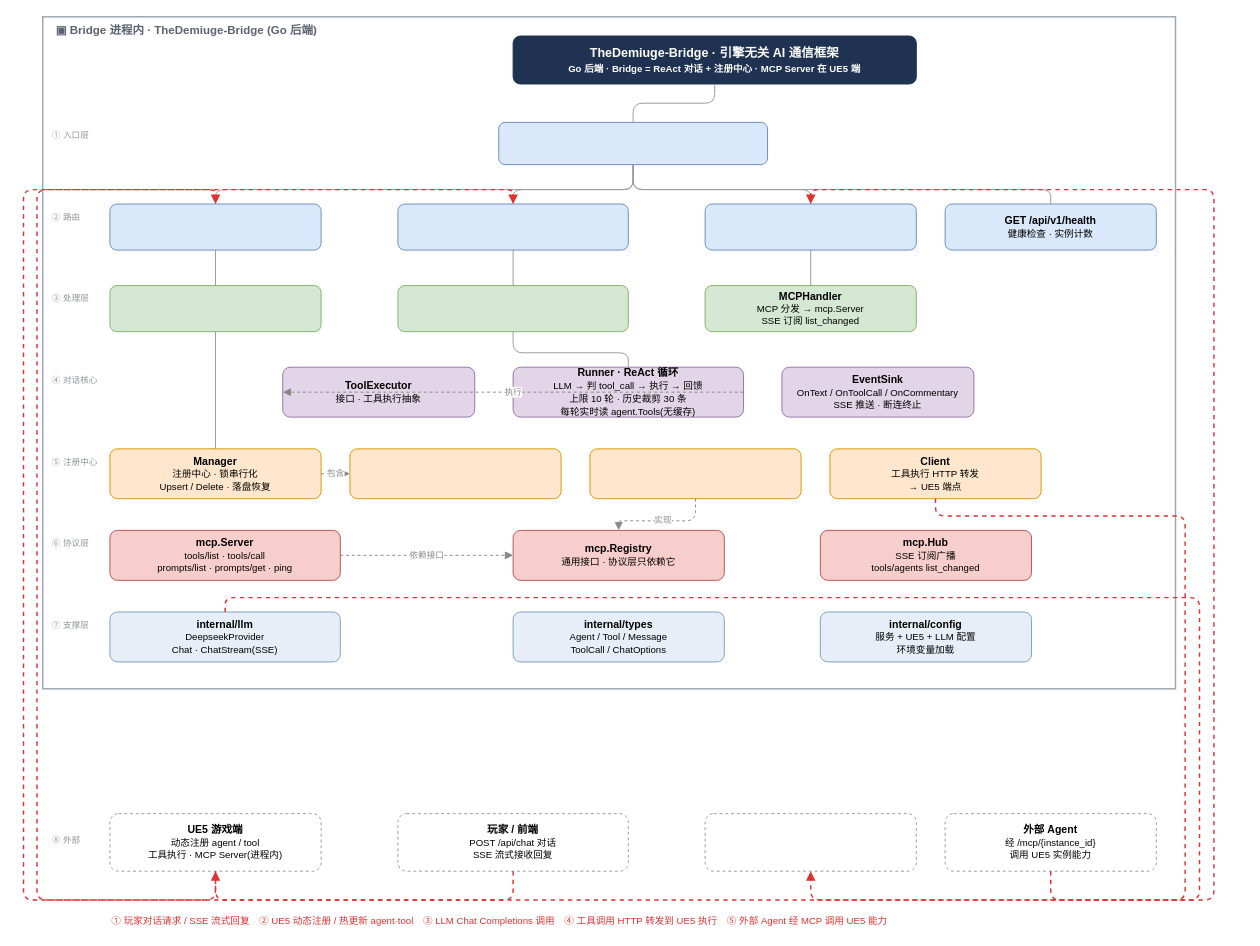
Some shapes in this 1260 by 946 pixel diagram are drawn without their labels. Each missing label, with the centre of its shape:
/mcp/* MCP 协议入口 · JSON-RPC 2.0: point 810,226
ChatHandler runner 池 · 每请求 syncAgent SetSystemPrompt / SetTools 热同步: point 512,308
DeepSeek API Chat Completions 可换 OpenAI 兼容服务: point 810,842
Instance 单实例注册空间 tools.yaml + agents.yaml: point 455,473
POST /api/chat NPC 对话入口 · SSE 流式: point 512,226
POST /api/v1/ue5/* UE5 管理接口 · 鉴权 X-UE5-Key: point 215,226
RegistryAdapter 实现 mcp.Registry 数据面实时读 · 执行面转发: point 695,473
UE5Handler 实例 / agent / tool CRUD 热更新 + 落盘: point 215,308
入口层 cmd/server/main.go config.Load() · 依赖组装 · 优雅退出: point 633,143
